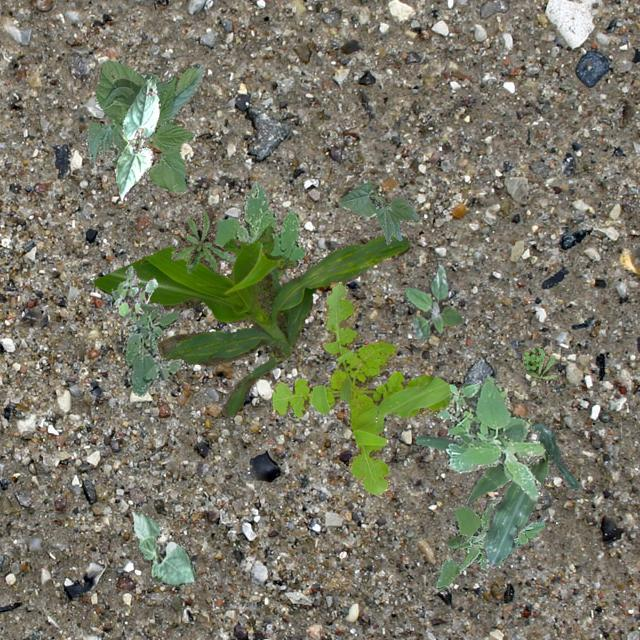crop: (92, 234, 408, 416), (414, 422, 578, 568), (84, 59, 204, 192), (114, 74, 160, 200), (338, 182, 419, 244), (131, 510, 195, 584)
weed: (272, 280, 448, 492), (428, 376, 544, 500), (434, 496, 544, 588), (110, 288, 184, 396), (212, 178, 304, 260), (402, 266, 463, 340), (170, 206, 234, 272), (222, 225, 298, 278), (114, 264, 156, 320), (522, 346, 556, 380)
